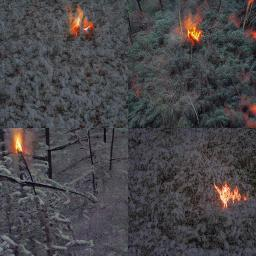Small fire: (62, 7, 100, 41), (179, 8, 208, 49), (212, 179, 248, 209), (6, 130, 27, 157)
